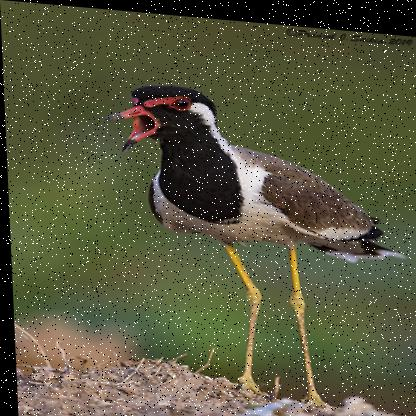Burung: (99, 77, 409, 409)
